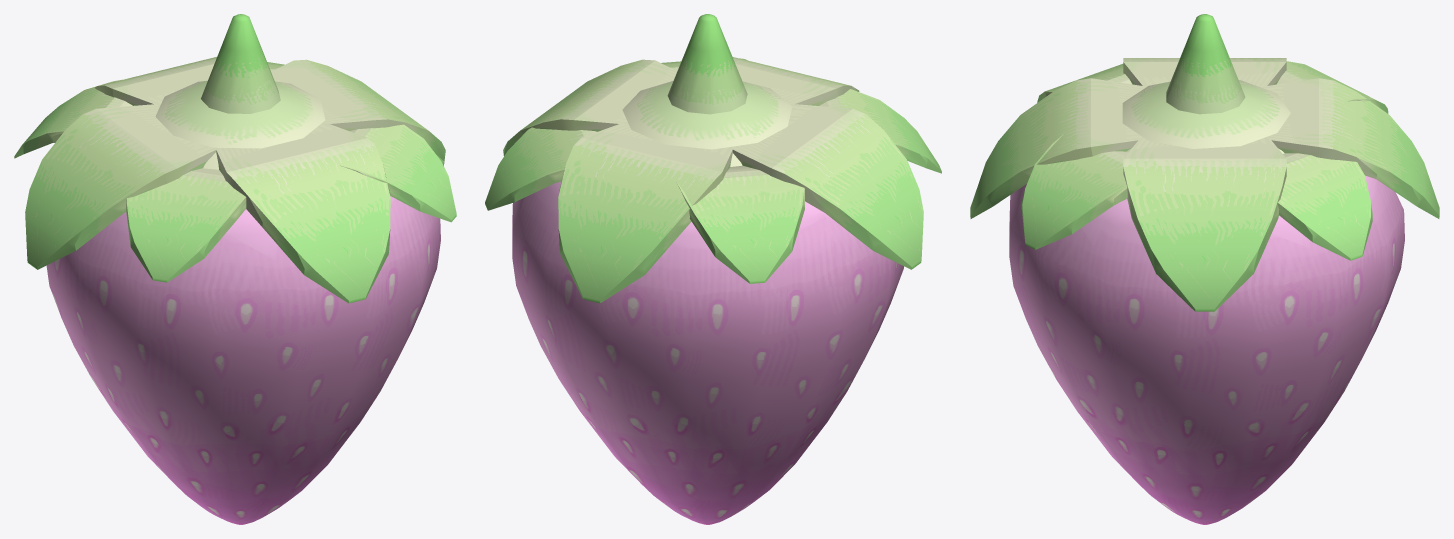
The model's file is Strawberry(4).fbx.
3 renders of one model, left to right at view 1: azimuth 30°, elevation 25°; view 2: azimuth 150°, elevation 25°; view 3: azimuth 270°, elevation 25°, orthographic.
Parts seen in each view (by area): view 1: StrawberrySteam, Strawberry; view 2: StrawberrySteam, Strawberry; view 3: Strawberry, StrawberrySteam.
Part boxes in pixels (x1,y1,x2,y2): StrawberrySteam: (14,14,456,303); Strawberry: (46,196,440,524); StrawberrySteam: (485,14,941,303); Strawberry: (512,181,903,524); Strawberry: (1009,175,1404,524); StrawberrySteam: (970,14,1439,311).
Size of the model in its own units: 290 by 346 by 290.
Materials: 3 (3 with a texture image).
